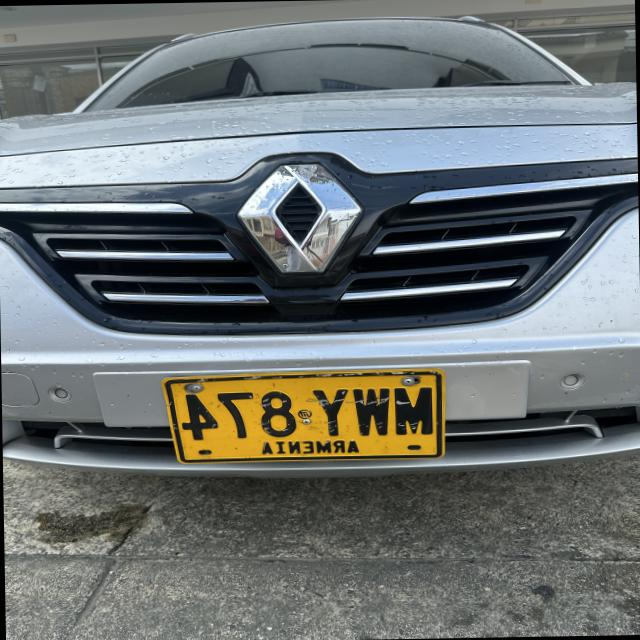number plate: (163, 369, 444, 462)
